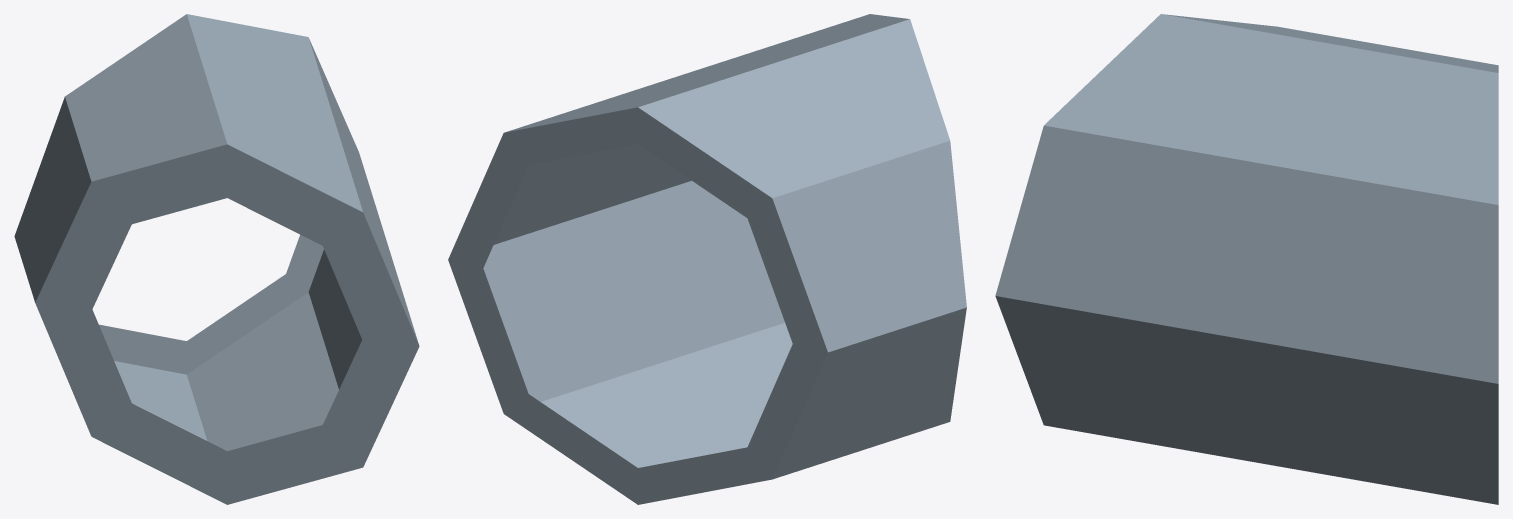
Rendered from pipecornerdiagonal.glb.
The picture shows the model from 3 angles, left to right: view 1: azimuth 30°, elevation 25°; view 2: azimuth 150°, elevation 25°; view 3: azimuth 270°, elevation 25°; orthographic projection. The views are drawn at different scales.
Parts seen in each view (by area): view 1: pipeCornerDiagonal; view 2: pipeCornerDiagonal; view 3: pipeCornerDiagonal.
Part boxes in pixels (bbox=[...]): pipeCornerDiagonal: bbox=[14, 14, 419, 504]; pipeCornerDiagonal: bbox=[448, 14, 966, 504]; pipeCornerDiagonal: bbox=[995, 14, 1498, 504].
Size of the model in its own units: 5.64 by 4.9 by 5.27.
